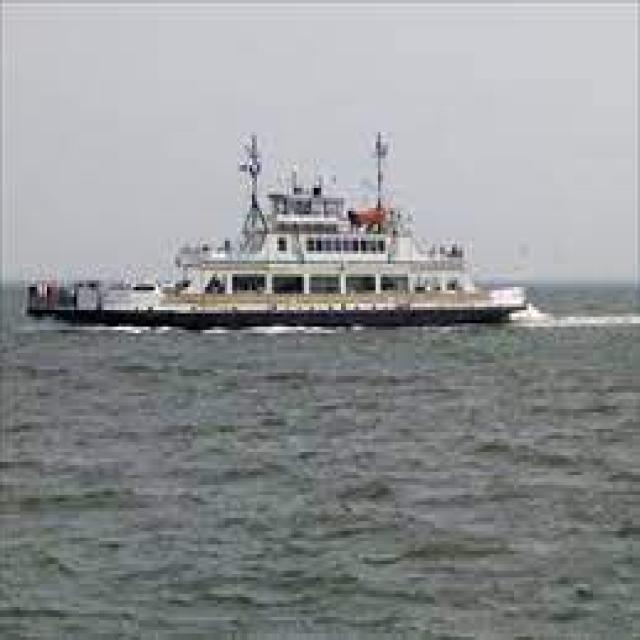fishing boat: (23, 155, 530, 331)
